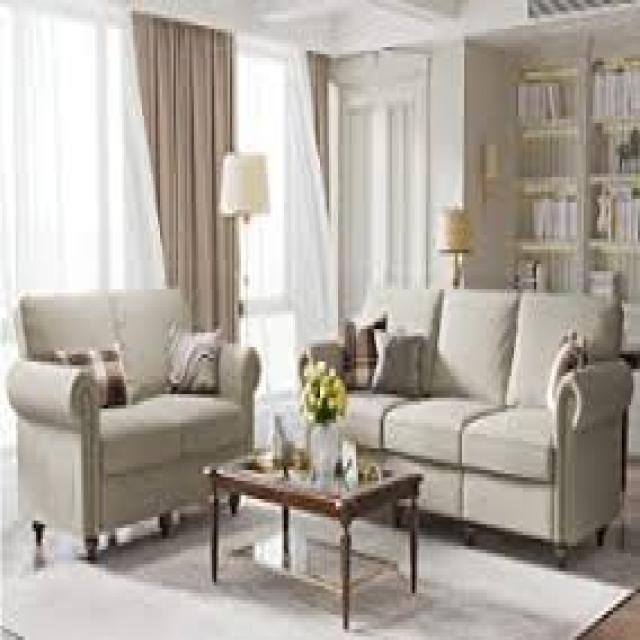Lamp: (220, 140, 276, 329), (434, 202, 476, 296)
Sofa: (312, 291, 640, 563), (18, 267, 257, 556)
Table: (206, 448, 427, 620)
